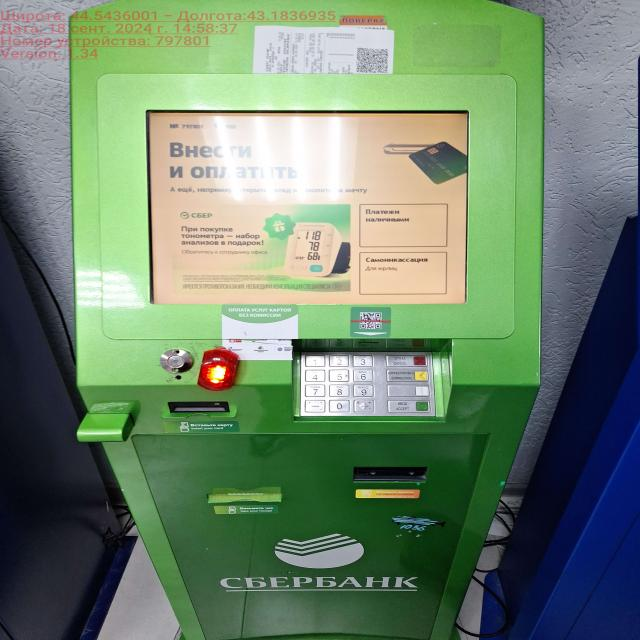bank: (73, 0, 542, 640)
